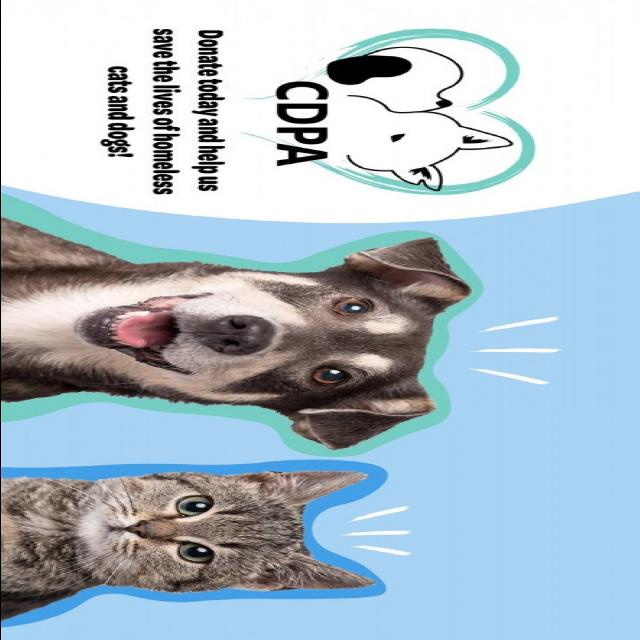cat: (1, 463, 392, 624)
dog: (0, 229, 491, 451)
